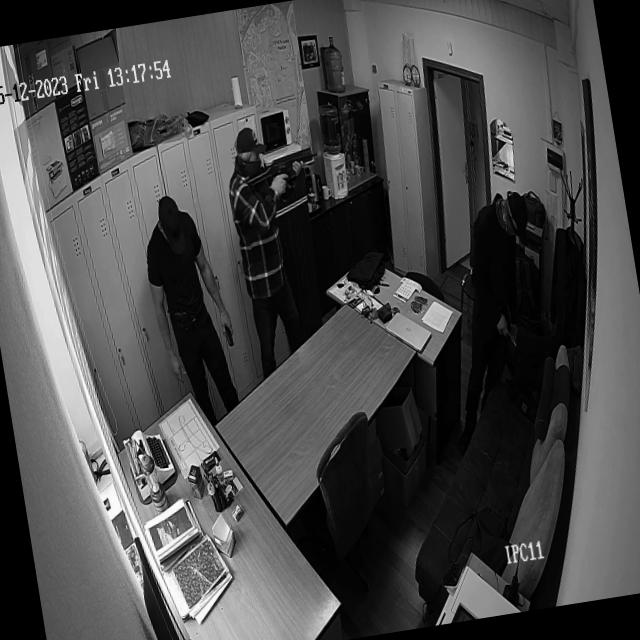gun: (243, 145, 323, 193)
person: (422, 190, 566, 459), (136, 188, 250, 436)
person with a gun: (218, 114, 352, 380)
